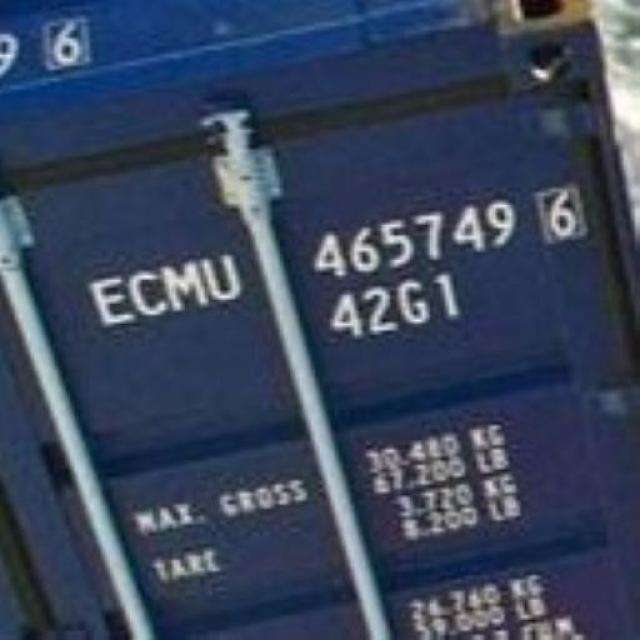ISO: (321, 268, 468, 350)
container_number: (90, 181, 588, 330)
